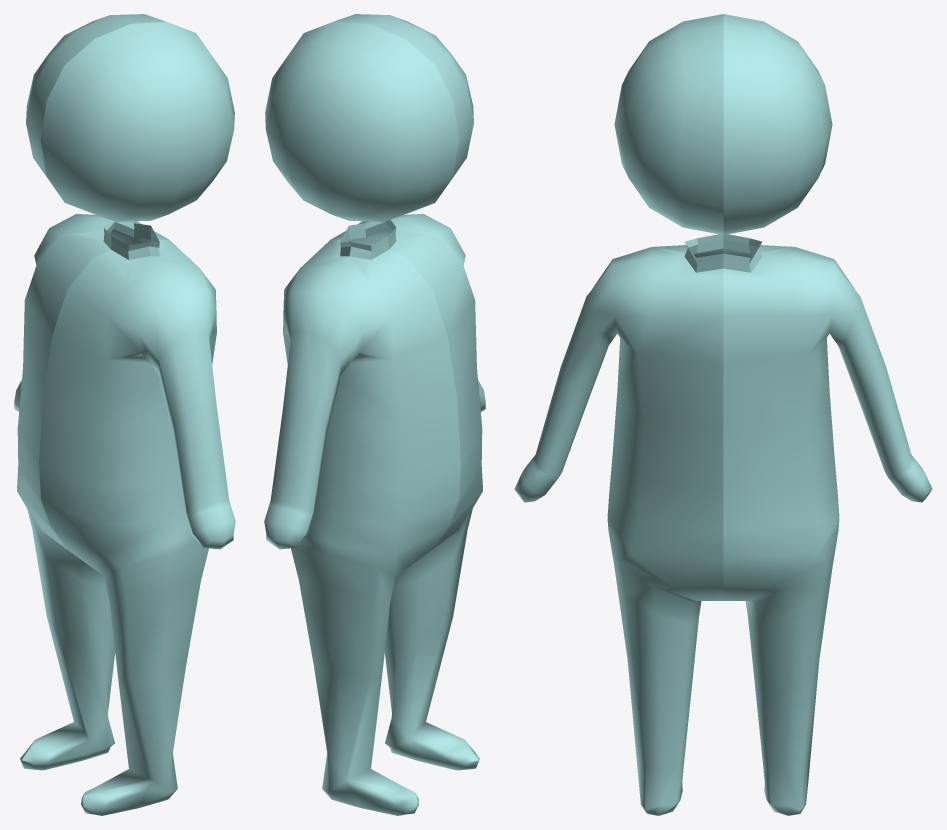
File: fireBro2Asset.fbx
3 renders of one model, left to right at view 1: azimuth 30°, elevation 25°; view 2: azimuth 150°, elevation 25°; view 3: azimuth 270°, elevation 25°, orthographic. The views are drawn at different scales.
Visible parts, largest first — view 1: pCube11; view 2: pCube11; view 3: pCube11.
Boxes of the visible parts, <box> form: pCube11: <box>14,14,235,815</box>; pCube11: <box>264,14,485,815</box>; pCube11: <box>514,14,932,815</box>.
Size of the model in its own units: 0.4432 by 1.76 by 0.8423.
